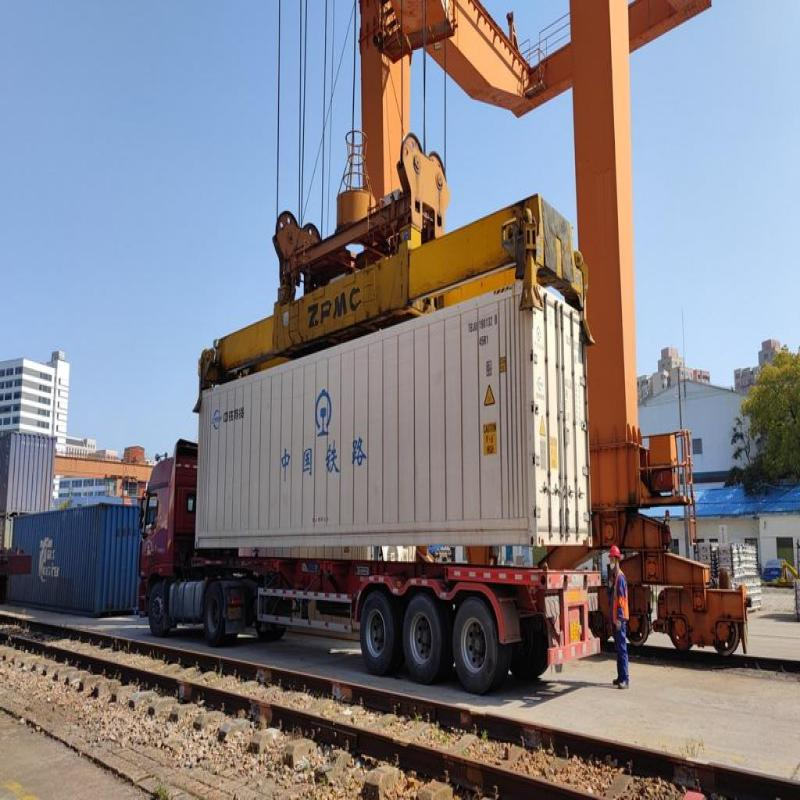train: (139, 422, 592, 697)
